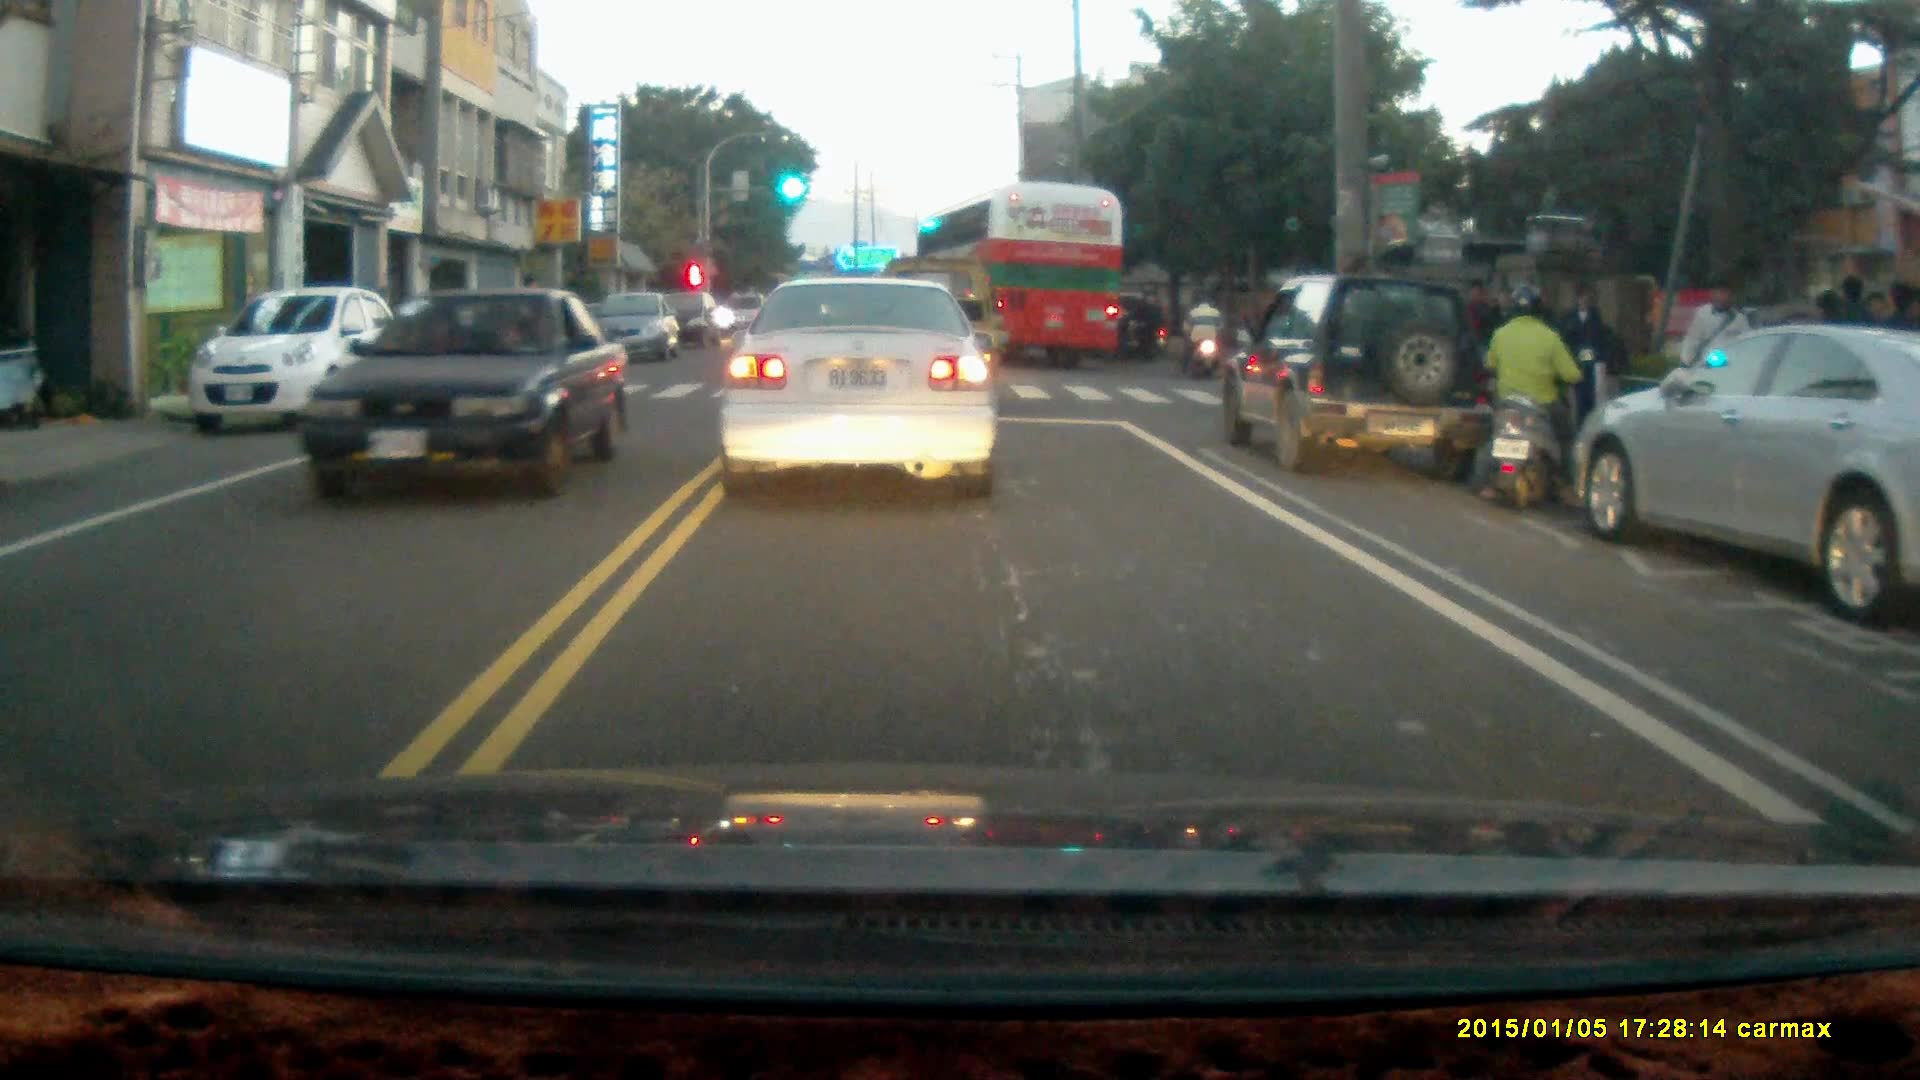pedestrian: (1676, 274, 1750, 435), (1562, 283, 1616, 440)
rider: (1479, 284, 1588, 515), (1109, 292, 1171, 364), (1181, 289, 1223, 376)
vehicle: (1577, 328, 1920, 627), (287, 285, 631, 506), (718, 271, 1006, 504), (1215, 274, 1497, 479), (909, 187, 1125, 368), (197, 283, 400, 427), (591, 291, 686, 366), (646, 286, 727, 355)
